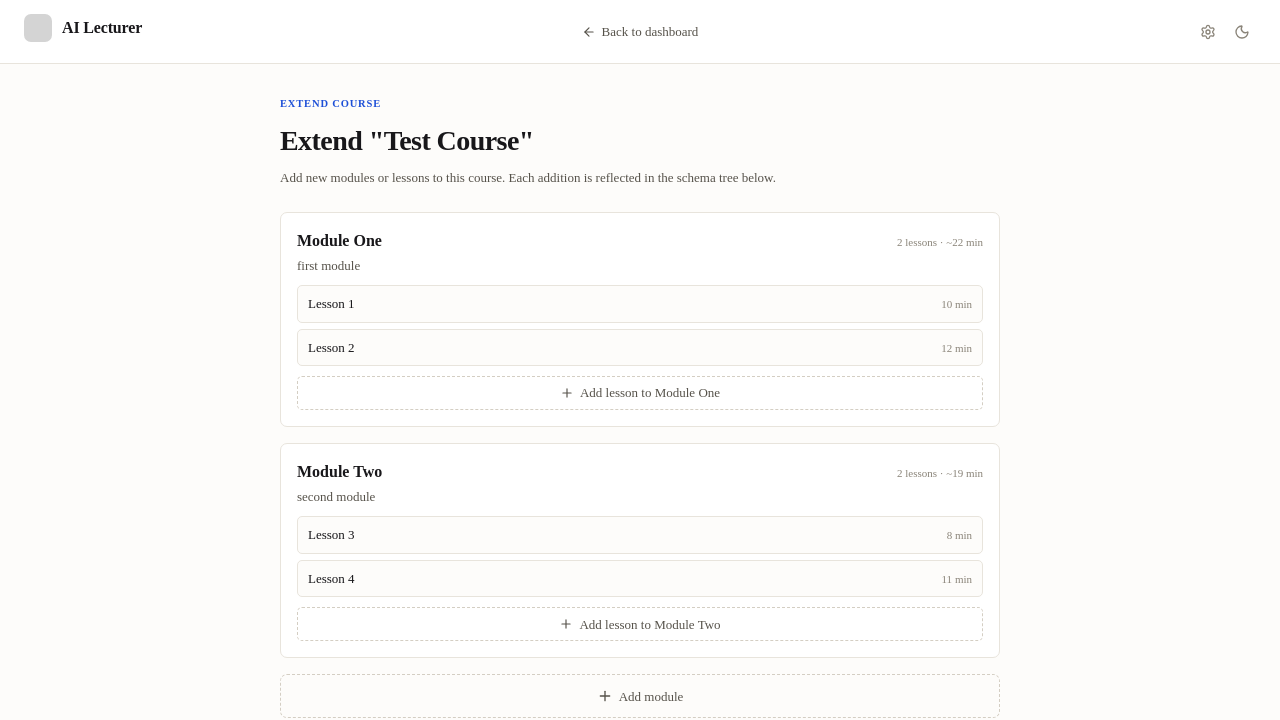
Test: Extend wizard page (US-180 direct-add) › Add module directly appends to currentProposed without fetching /extend (US-180)
The image size is (1280, 720).
Click the button with test id "extend-add-module": (640, 696) [280,674,1000,718]
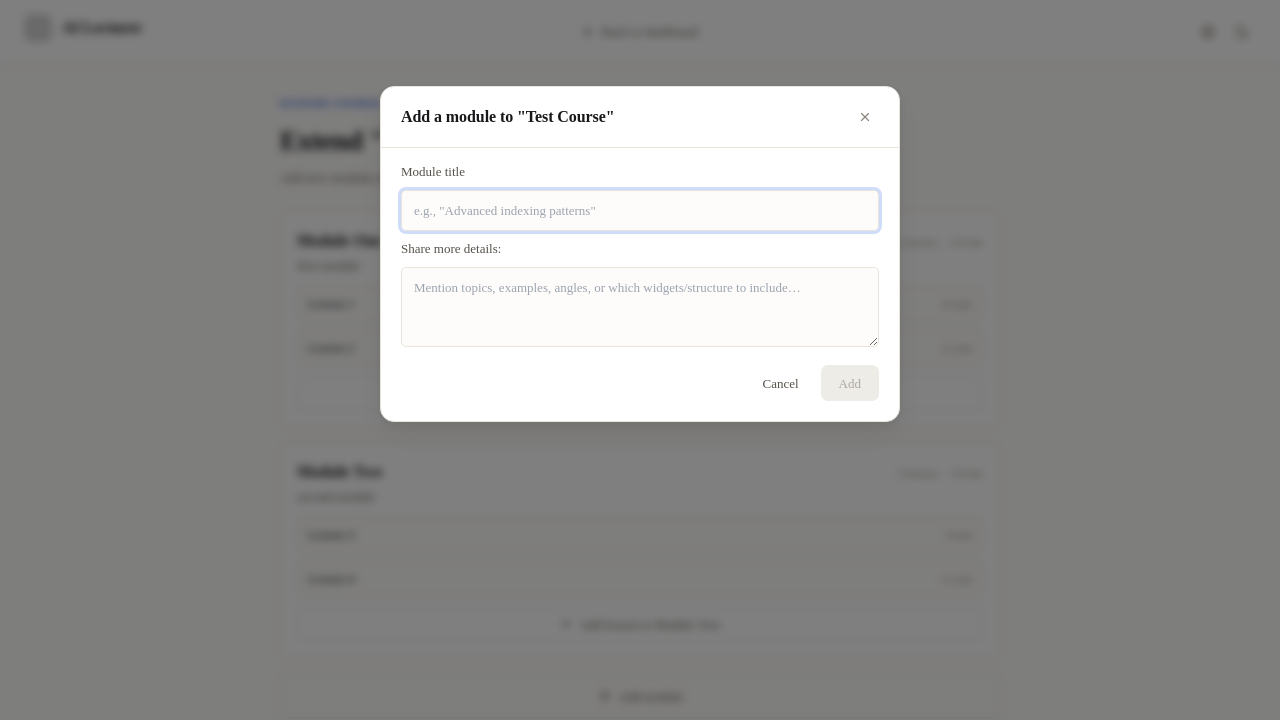
In the field with test id "extend-dialog-title": (640, 211) [401,190,879,231], type "Indexing"
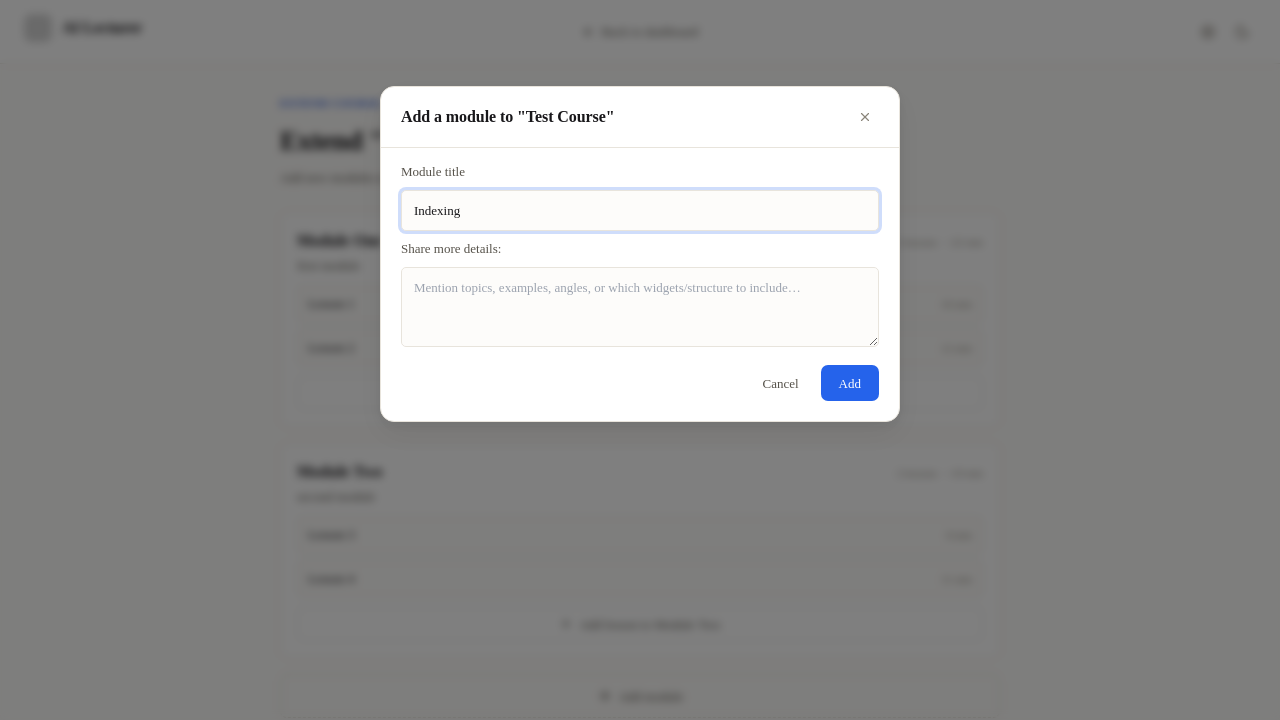
Replace the text in the text box with test id "extend-dialog-summary" with "Tensor slicing and dicing": (640, 307) [401,267,879,347]
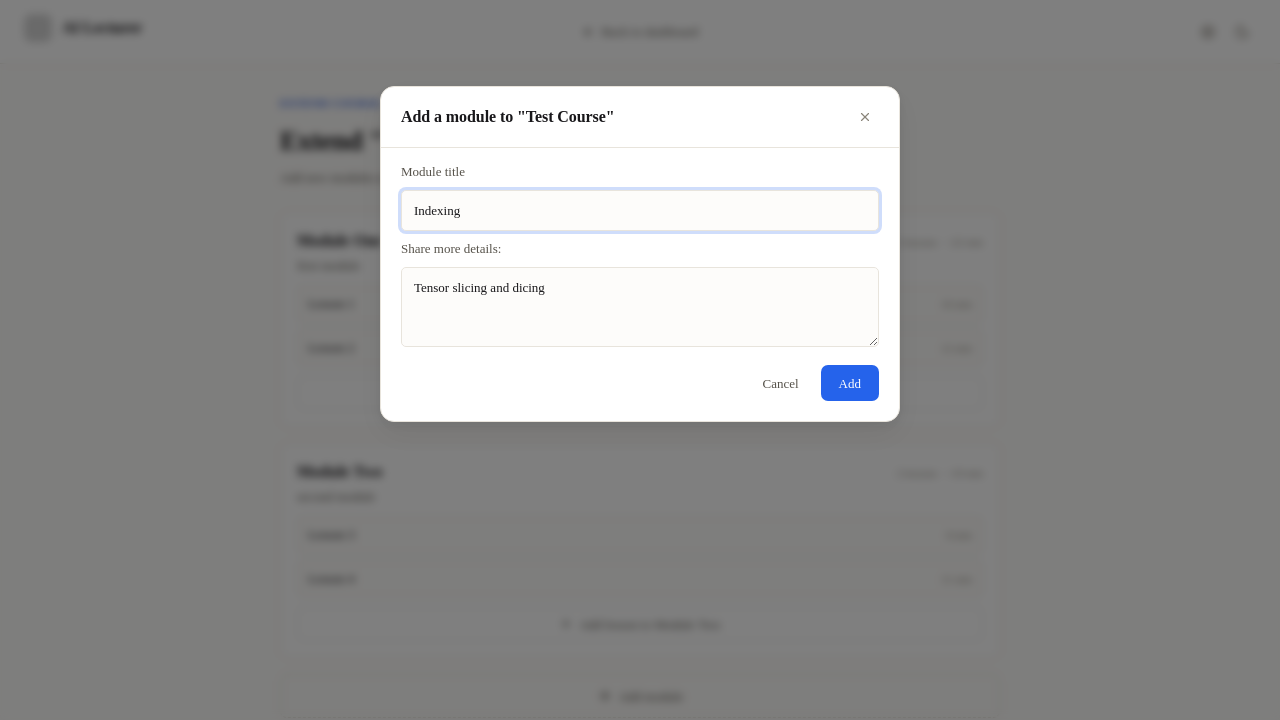
Click the button with test id "extend-dialog-add": (850, 383) [821,365,879,401]
(page scrolled)
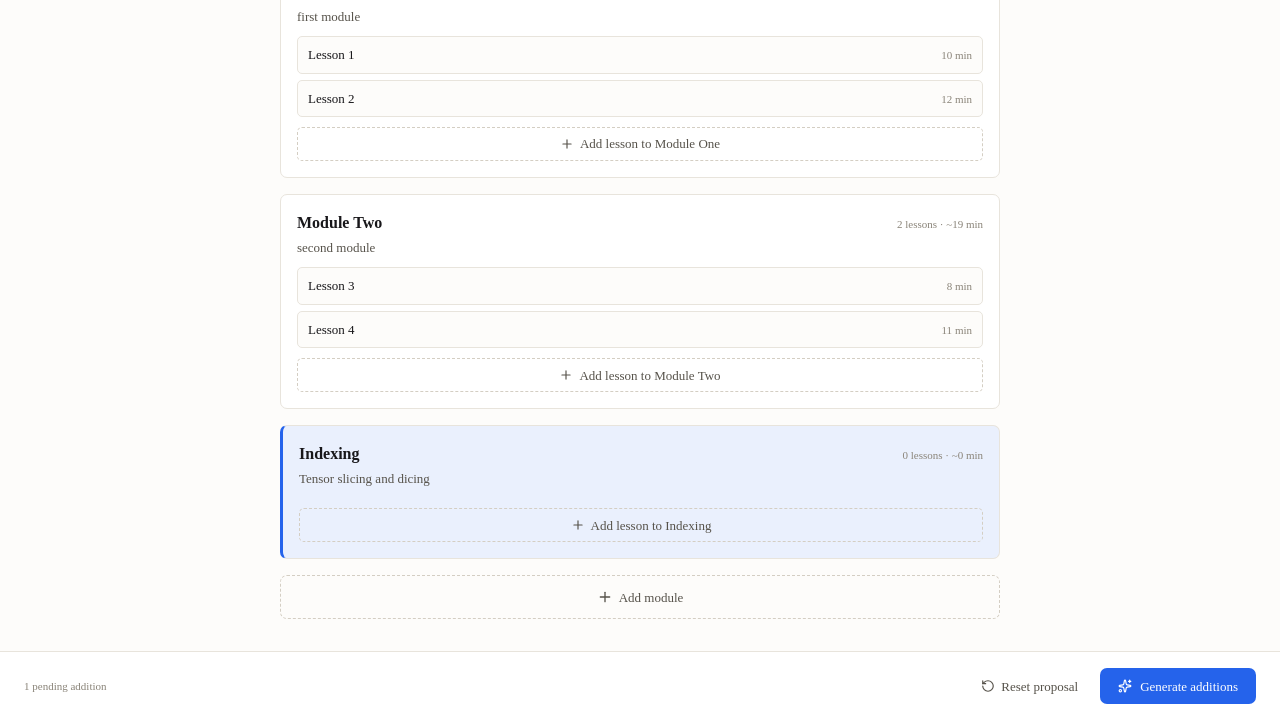
Result: the dialog with test id "extend-dialog" is gone
Result: the text with test id "extend-module-title-indexing" reads "Indexing" at [299,445,360,462]
Result: the text with test id "extend-module-summary-indexing" reads "Tensor slicing and dicing" at [299,471,430,486]
